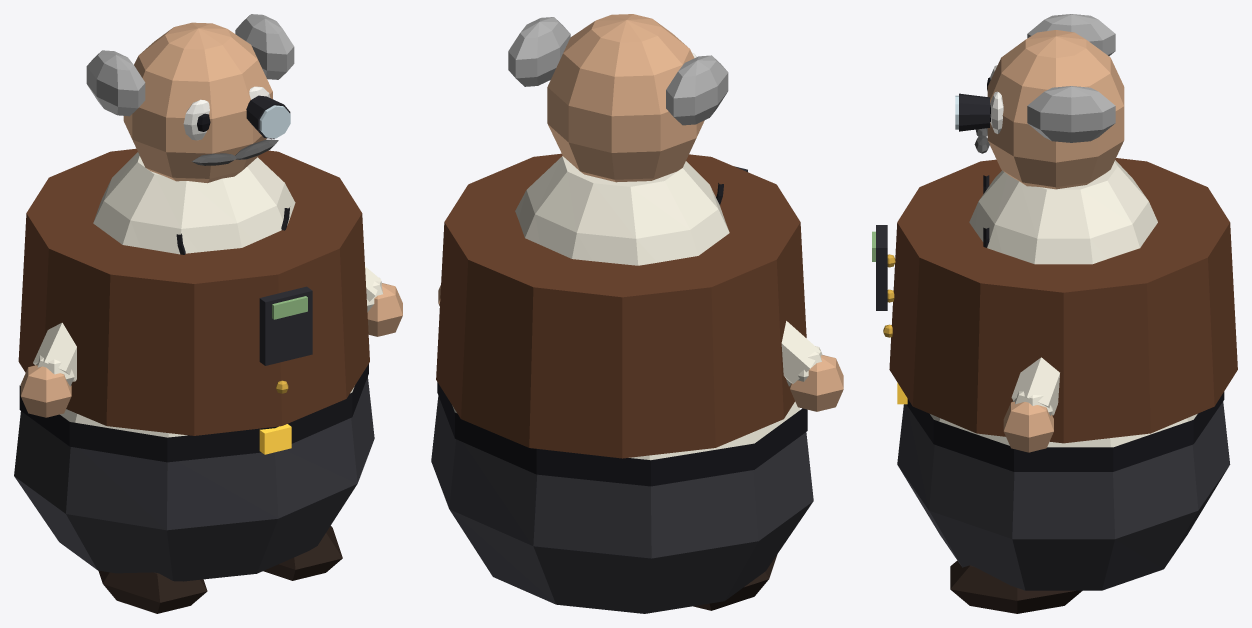
File: npc_regateo.glb
3 views of the same model, side by side, from view 1: azimuth 30°, elevation 25°; view 2: azimuth 150°, elevation 25°; view 3: azimuth 270°, elevation 25° (orthographic). The views are drawn at different scales.
Parts seen in each view (by area): view 1: vest_regateo_vest, body_regateo_pants, head_skin_regateo, body_regateo_shirt, body_black, hair_regateo_hair, legs_regateo_shoes, arms_skin_regateo, calculator_regateo_calc, arms_regateo_shirt, face_white, loupe_regateo_lens (+3 smaller); view 2: vest_regateo_vest, body_regateo_pants, head_skin_regateo, body_regateo_shirt, body_black, hair_regateo_hair, arms_skin_regateo, arms_regateo_shirt, legs_regateo_shoes; view 3: vest_regateo_vest, body_regateo_pants, body_regateo_shirt, head_skin_regateo, body_black, hair_regateo_hair, legs_regateo_shoes, arms_skin_regateo, arms_regateo_shirt, loupe_regateo_loupe, calculator_regateo_calc, face_white.
Boxes of the visible parts, x1,y1,x2,y2 form: vest_regateo_vest: (18, 148, 369, 435); body_regateo_pants: (14, 377, 374, 581); head_skin_regateo: (123, 22, 272, 183); body_regateo_shirt: (60, 152, 354, 437); body_black: (19, 364, 368, 462); hair_regateo_hair: (86, 14, 294, 116); legs_regateo_shoes: (98, 526, 342, 613); arms_skin_regateo: (20, 283, 402, 417); calculator_regateo_calc: (259, 286, 312, 365); arms_regateo_shirt: (33, 266, 382, 386); face_white: (183, 86, 270, 140); loupe_regateo_lens: (259, 105, 290, 138); vest_regateo_vest: (436, 153, 806, 458); body_regateo_pants: (431, 396, 813, 613); head_skin_regateo: (547, 14, 704, 182); body_regateo_shirt: (452, 156, 800, 460); body_black: (437, 382, 807, 486); hair_regateo_hair: (508, 17, 728, 125); arms_skin_regateo: (438, 285, 843, 411); arms_regateo_shirt: (781, 321, 822, 386); legs_regateo_shoes: (693, 554, 777, 610); vest_regateo_vest: (889, 158, 1237, 443); body_regateo_pants: (897, 401, 1230, 590); body_regateo_shirt: (930, 160, 1197, 447); head_skin_regateo: (987, 30, 1124, 189); body_black: (906, 392, 1224, 471); hair_regateo_hair: (1027, 14, 1115, 142); legs_regateo_shoes: (950, 560, 1082, 613); arms_skin_regateo: (1003, 401, 1053, 452); arms_regateo_shirt: (1011, 357, 1059, 415); loupe_regateo_loupe: (959, 93, 989, 131); calculator_regateo_calc: (876, 225, 887, 310); face_white: (990, 65, 1003, 133).
Size of the model in its own units: 1.13 by 1.53 by 0.945.
